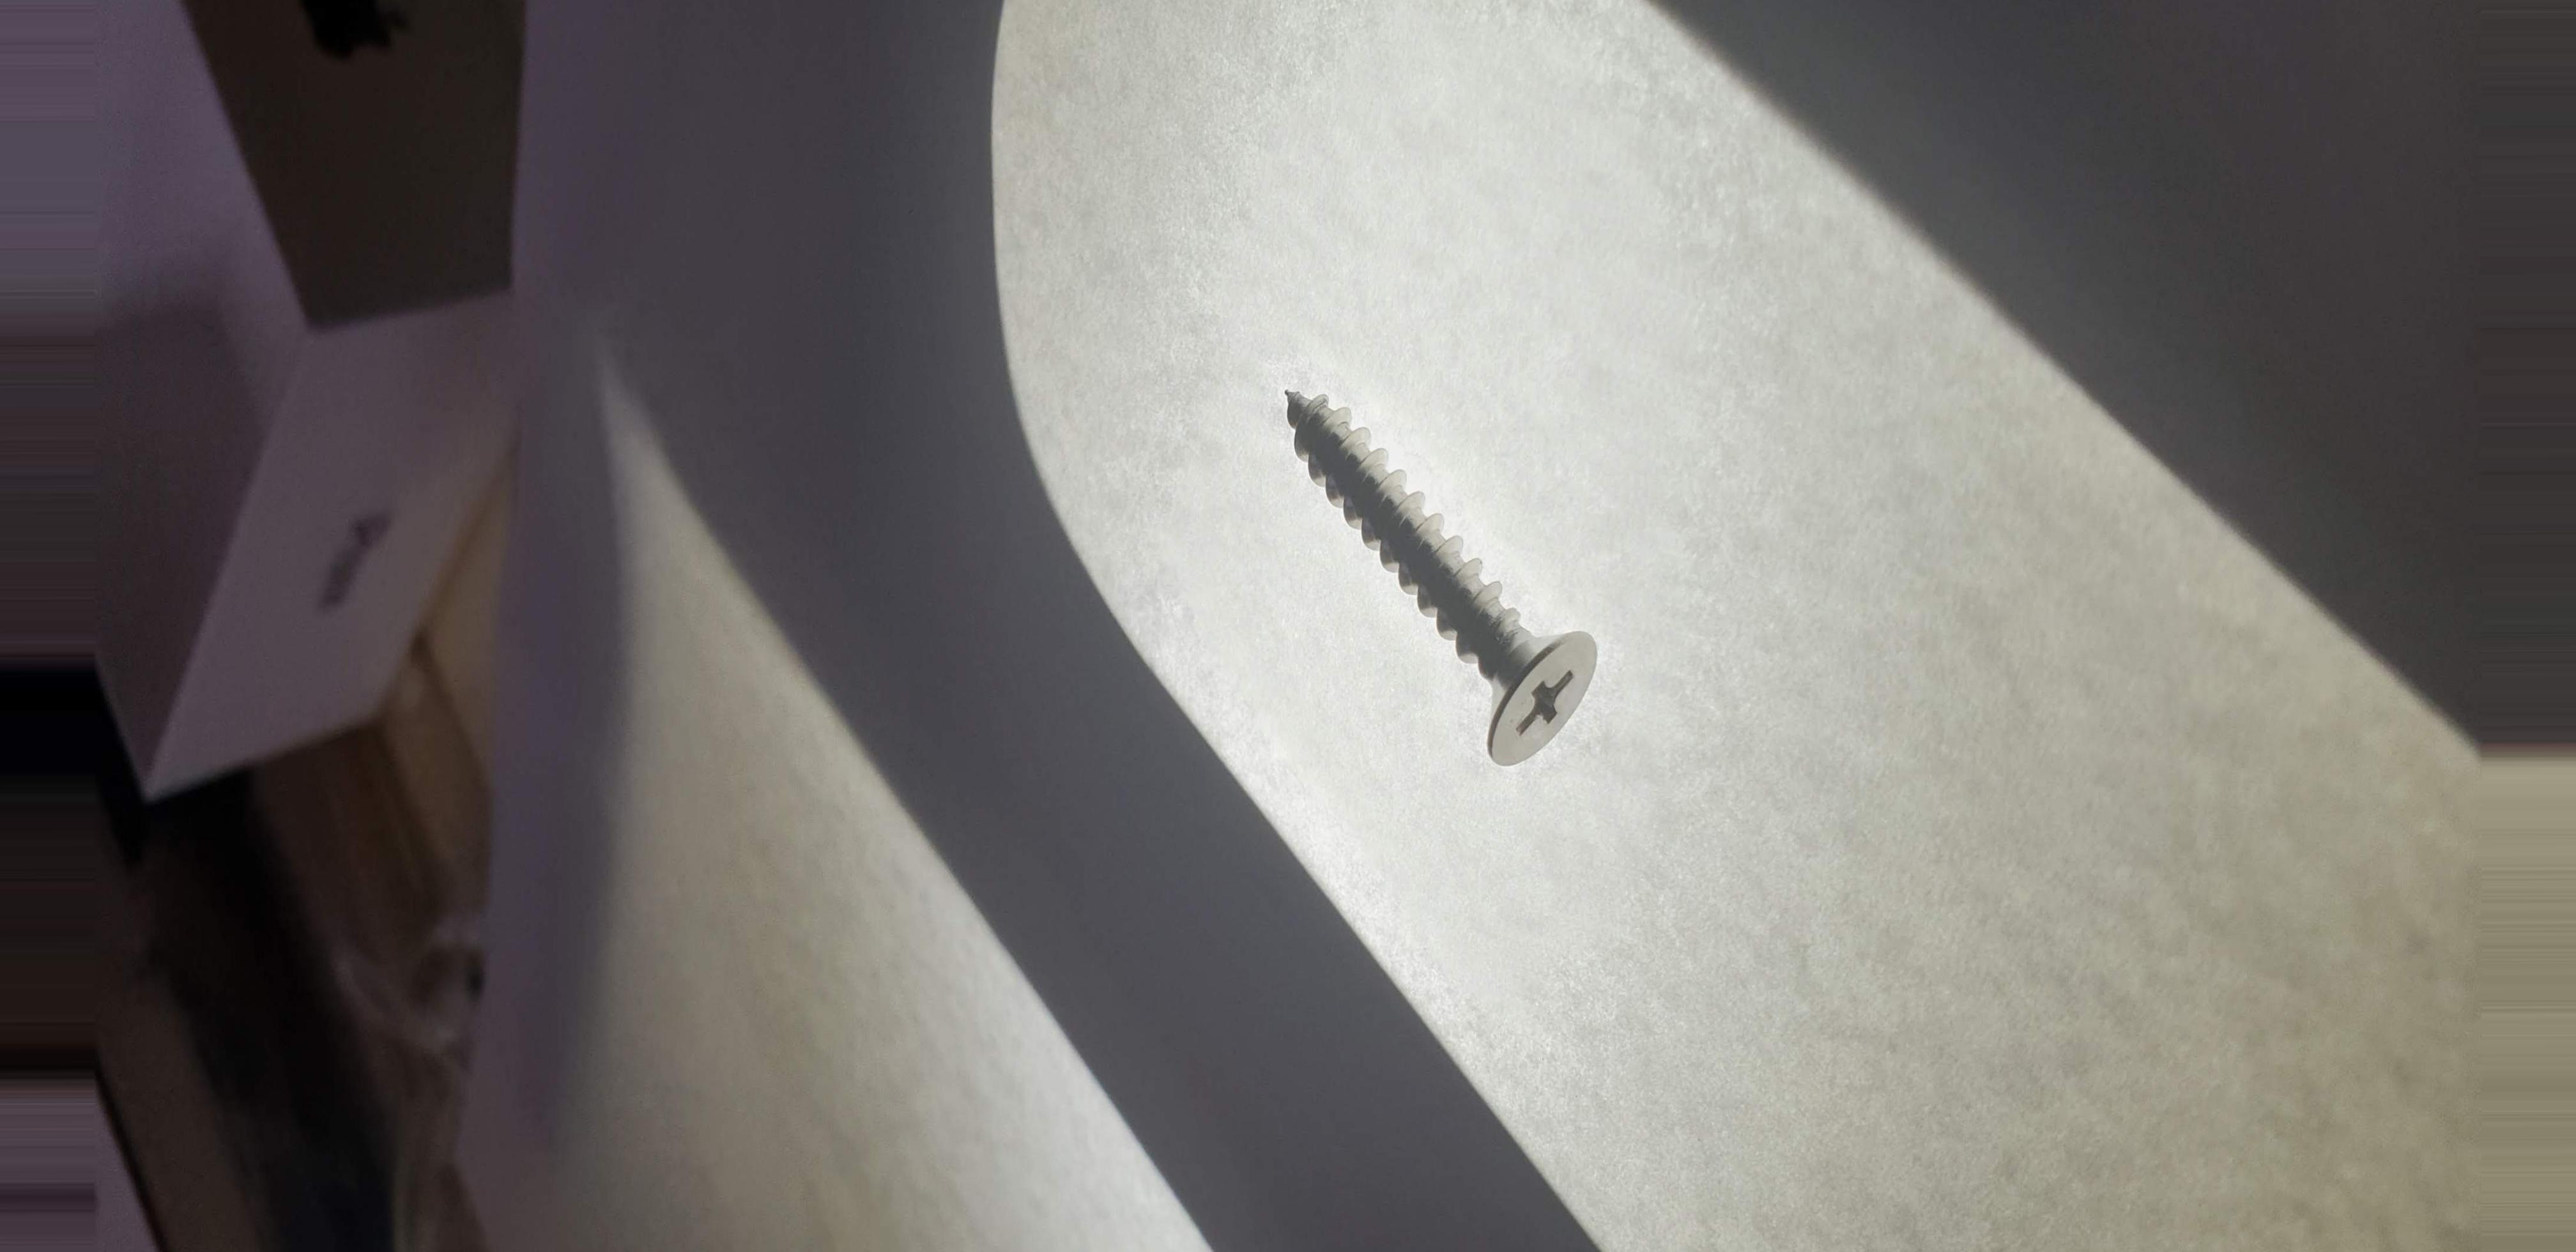S004: (1234, 334, 1649, 818)
